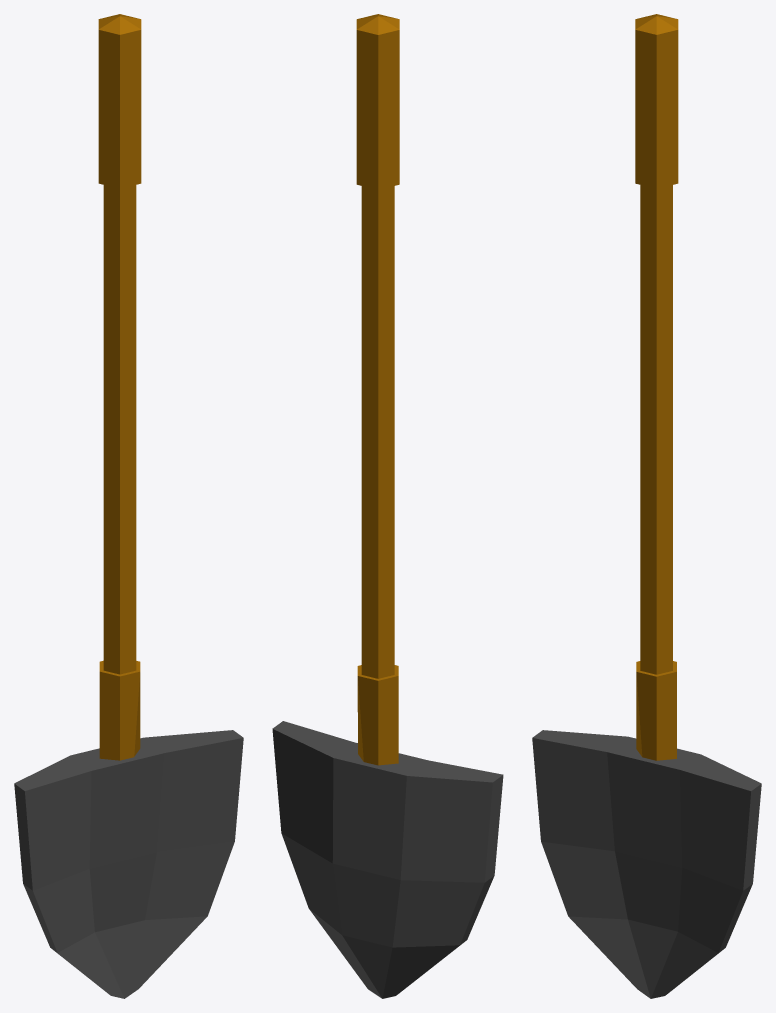
File: GEO_shovel.fbx
3 renders of one model, left to right at view 1: azimuth 30°, elevation 25°; view 2: azimuth 150°, elevation 25°; view 3: azimuth 330°, elevation 25°, orthographic.
Visible parts, largest first — view 1: GEO_Tools_Shovel; view 2: GEO_Tools_Shovel; view 3: GEO_Tools_Shovel.
Part boxes in pixels (bbox=[...]): GEO_Tools_Shovel: bbox=[14, 14, 243, 998]; GEO_Tools_Shovel: bbox=[272, 14, 503, 998]; GEO_Tools_Shovel: bbox=[532, 14, 761, 998].
Bounding box in the file's own units: 23.83 × 102 × 5.37.
